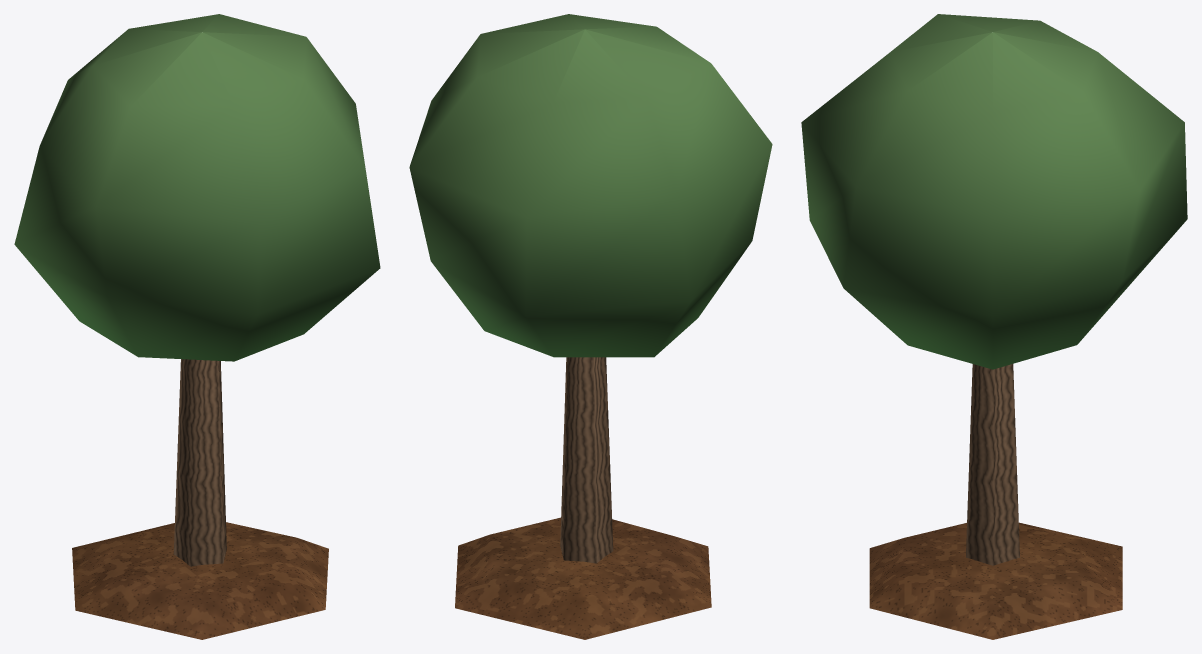
File: plant-apple-3-far.glb
3 views of the same model, side by side, from view 1: azimuth 30°, elevation 25°; view 2: azimuth 150°, elevation 25°; view 3: azimuth 270°, elevation 25° (orthographic).
Visible parts, largest first — view 1: plant-apple-3-far; view 2: plant-apple-3-far; view 3: plant-apple-3-far.
Part boxes in pixels (x1,y1,x2,y2): plant-apple-3-far: (14,14,380,639); plant-apple-3-far: (409,14,772,639); plant-apple-3-far: (801,14,1187,639).
Bounding box in the file's own units: 1.21 × 2.06 × 1.32.
3 materials, 2 textured.
